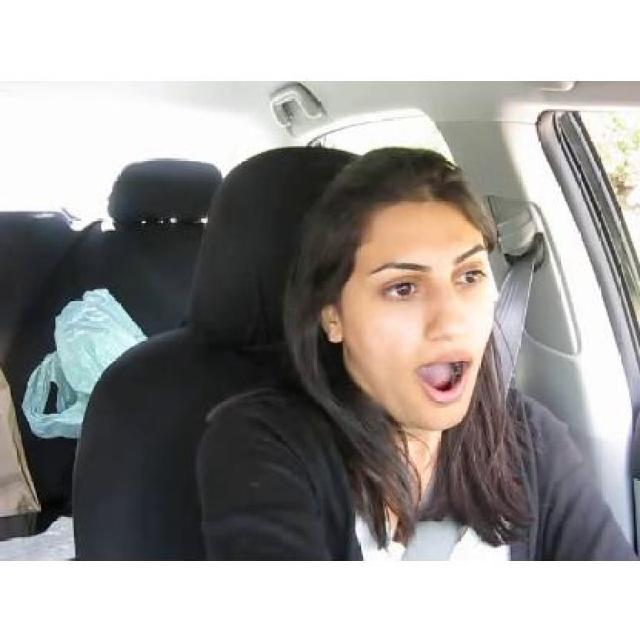inattentif: (312, 146, 491, 432)
